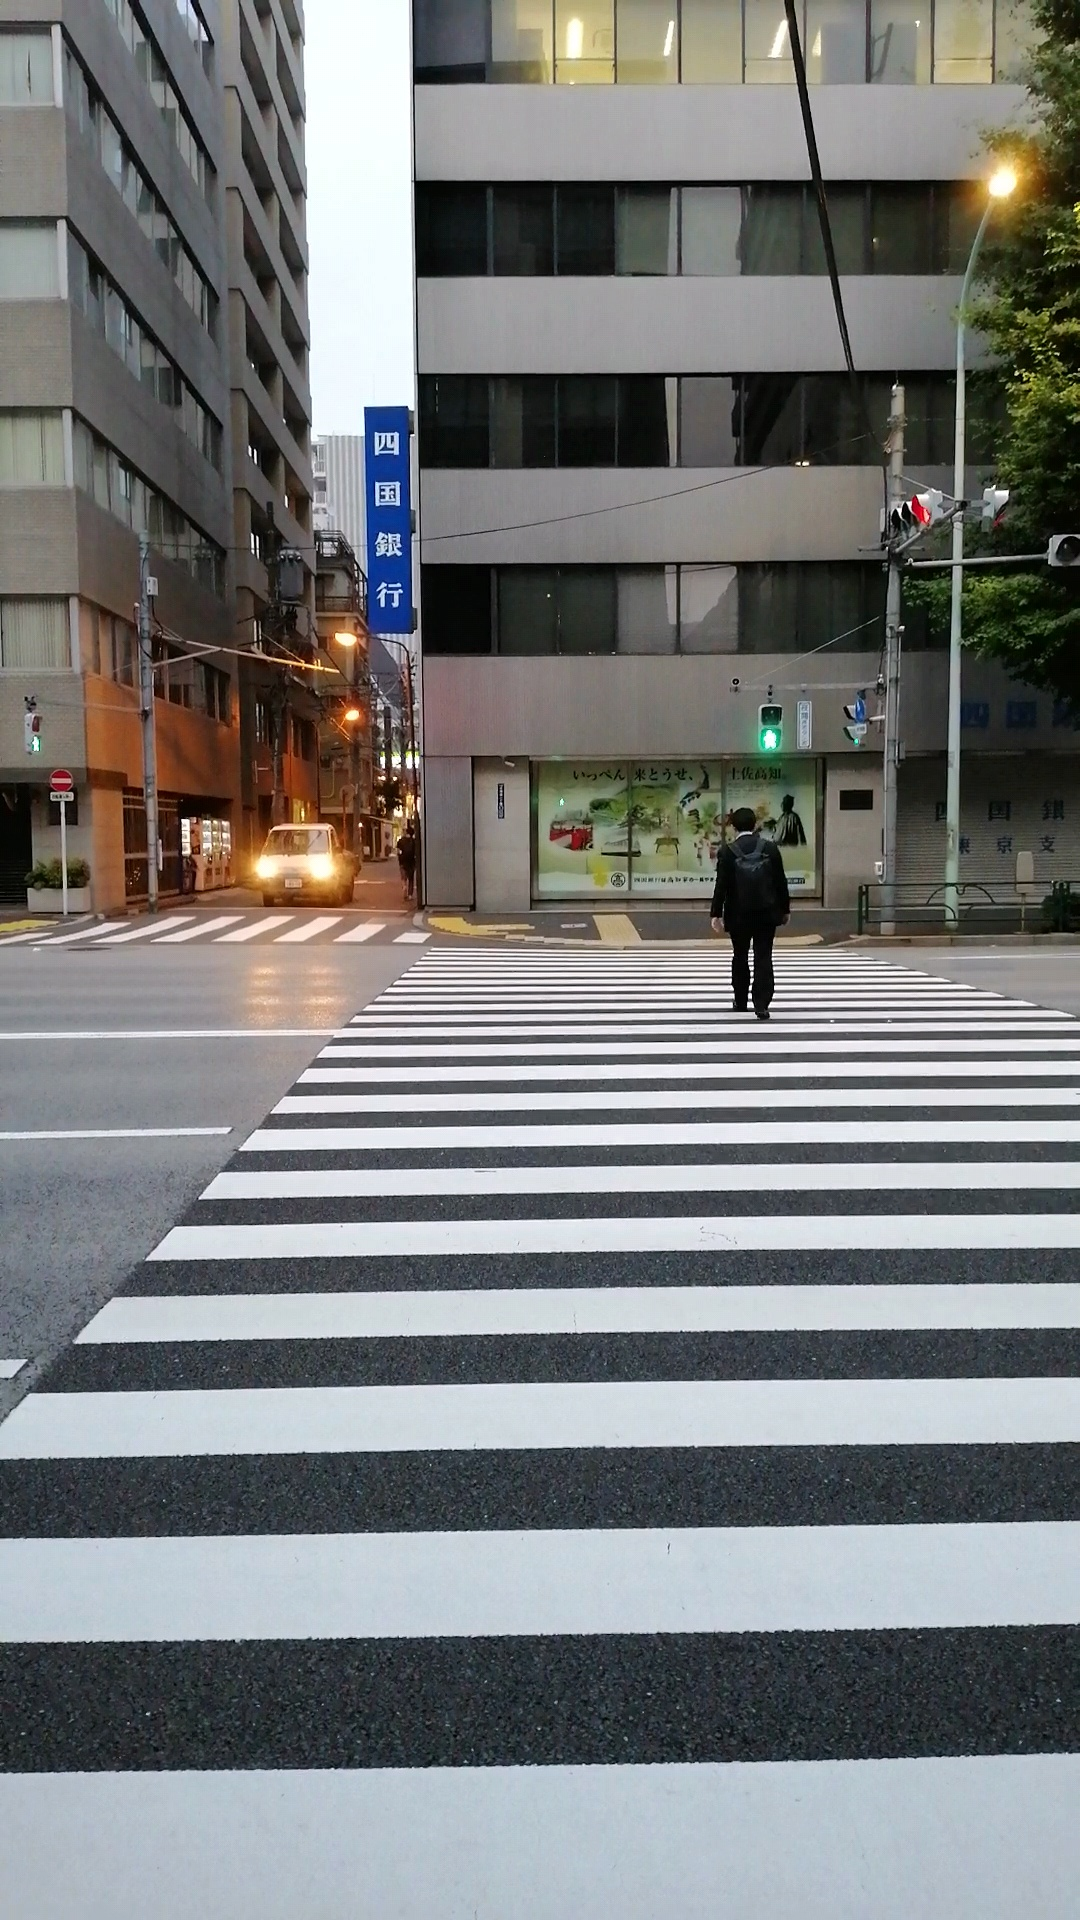green: (754, 704, 785, 754)
